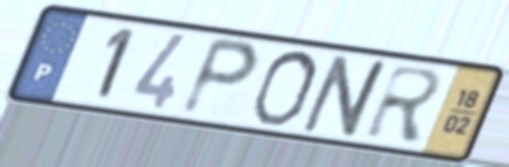1: (94, 26, 137, 104)
4: (128, 29, 189, 114)
N: (295, 52, 397, 142)
O: (248, 48, 322, 128)
P: (174, 33, 263, 121)
R: (360, 61, 450, 146)
